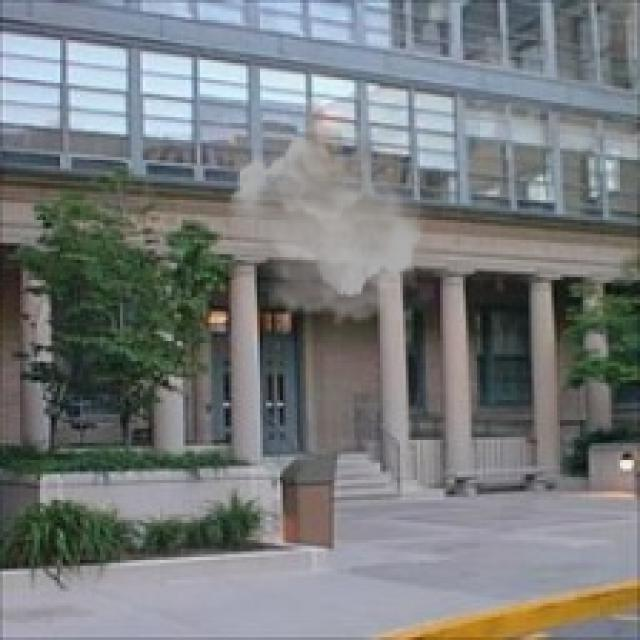smoke: (226, 92, 454, 328)
